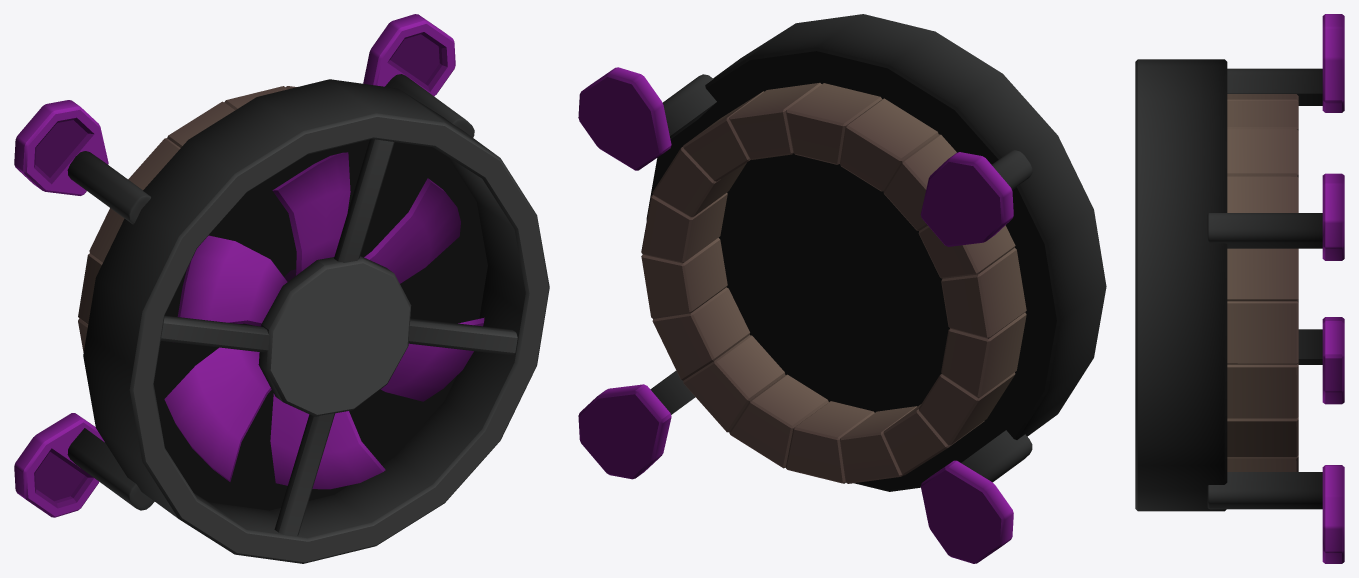
The model's file is Cooling_systems_lvl_03_V02.fbx.
3 renders of one model, left to right at view 1: azimuth 30°, elevation 25°; view 2: azimuth 150°, elevation 25°; view 3: azimuth 270°, elevation 25°, orthographic. The views are drawn at different scales.
Visible parts, largest first — view 1: Body_Cooling, Fan_Cooling; view 2: Body_Cooling; view 3: Body_Cooling.
Part boxes in pixels (box(x1,y1,x2,y2)): Body_Cooling: box(14, 14, 549, 563); Fan_Cooling: box(164, 152, 484, 489); Body_Cooling: box(578, 14, 1106, 563); Body_Cooling: box(1135, 14, 1344, 563).
Bounding box in the file's own units: 47.51 × 45.43 × 21.31.
